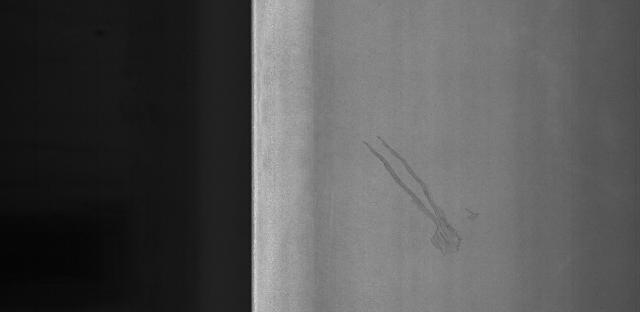water_spot: (357, 128, 495, 257)
